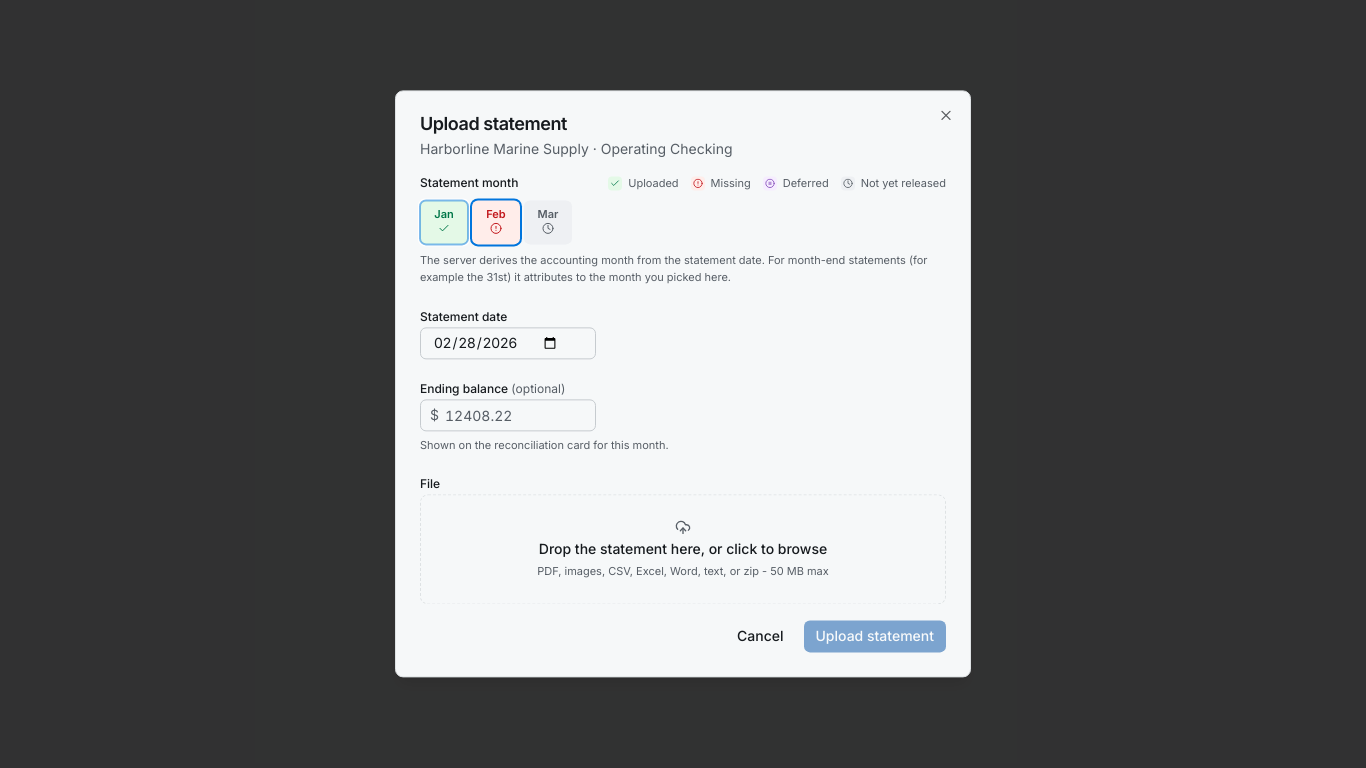
it: StatementUploadModal › clicking a different cell retargets the period and date
Click the button with test id "statement-cell".
click(548, 222)  # box [524, 200, 572, 244]
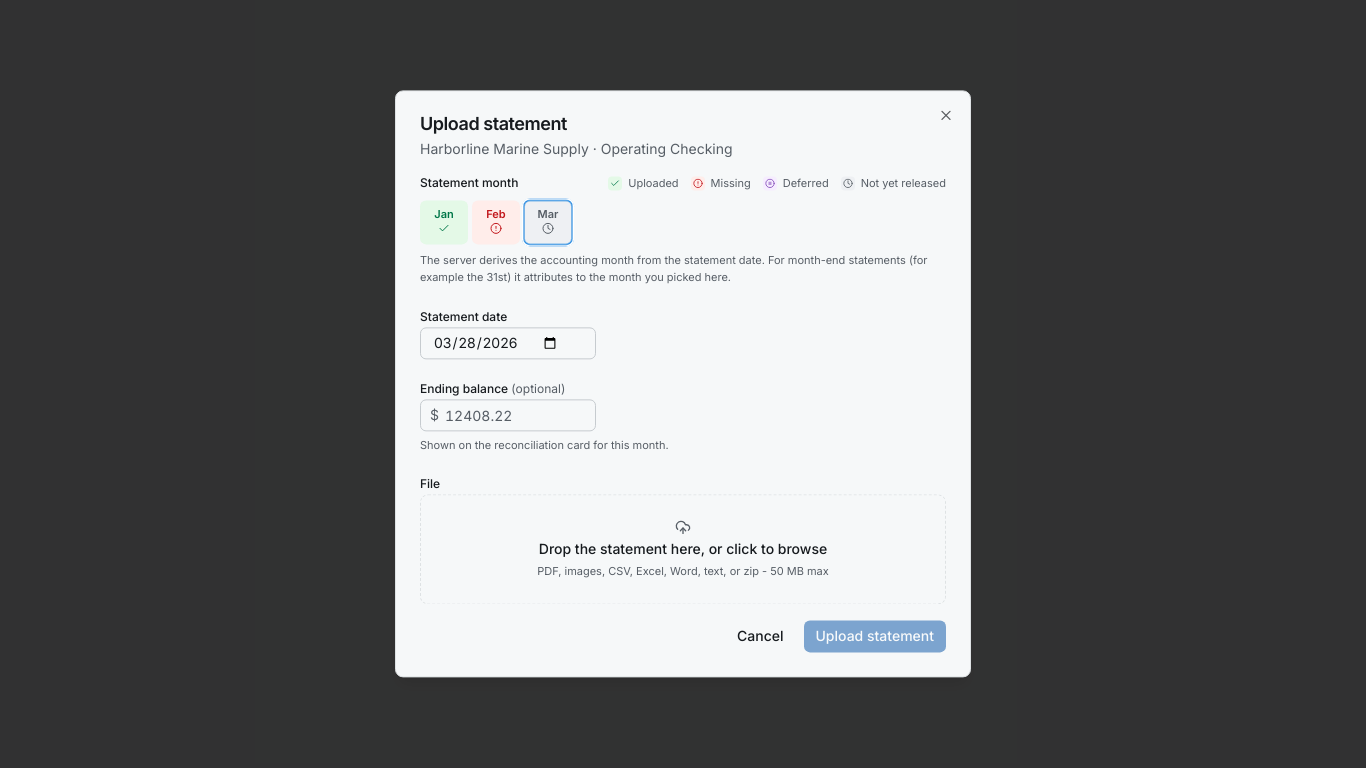
Expected: the date field labelled "Statement date" holds "2026-03-28", [420, 328, 596, 360]
